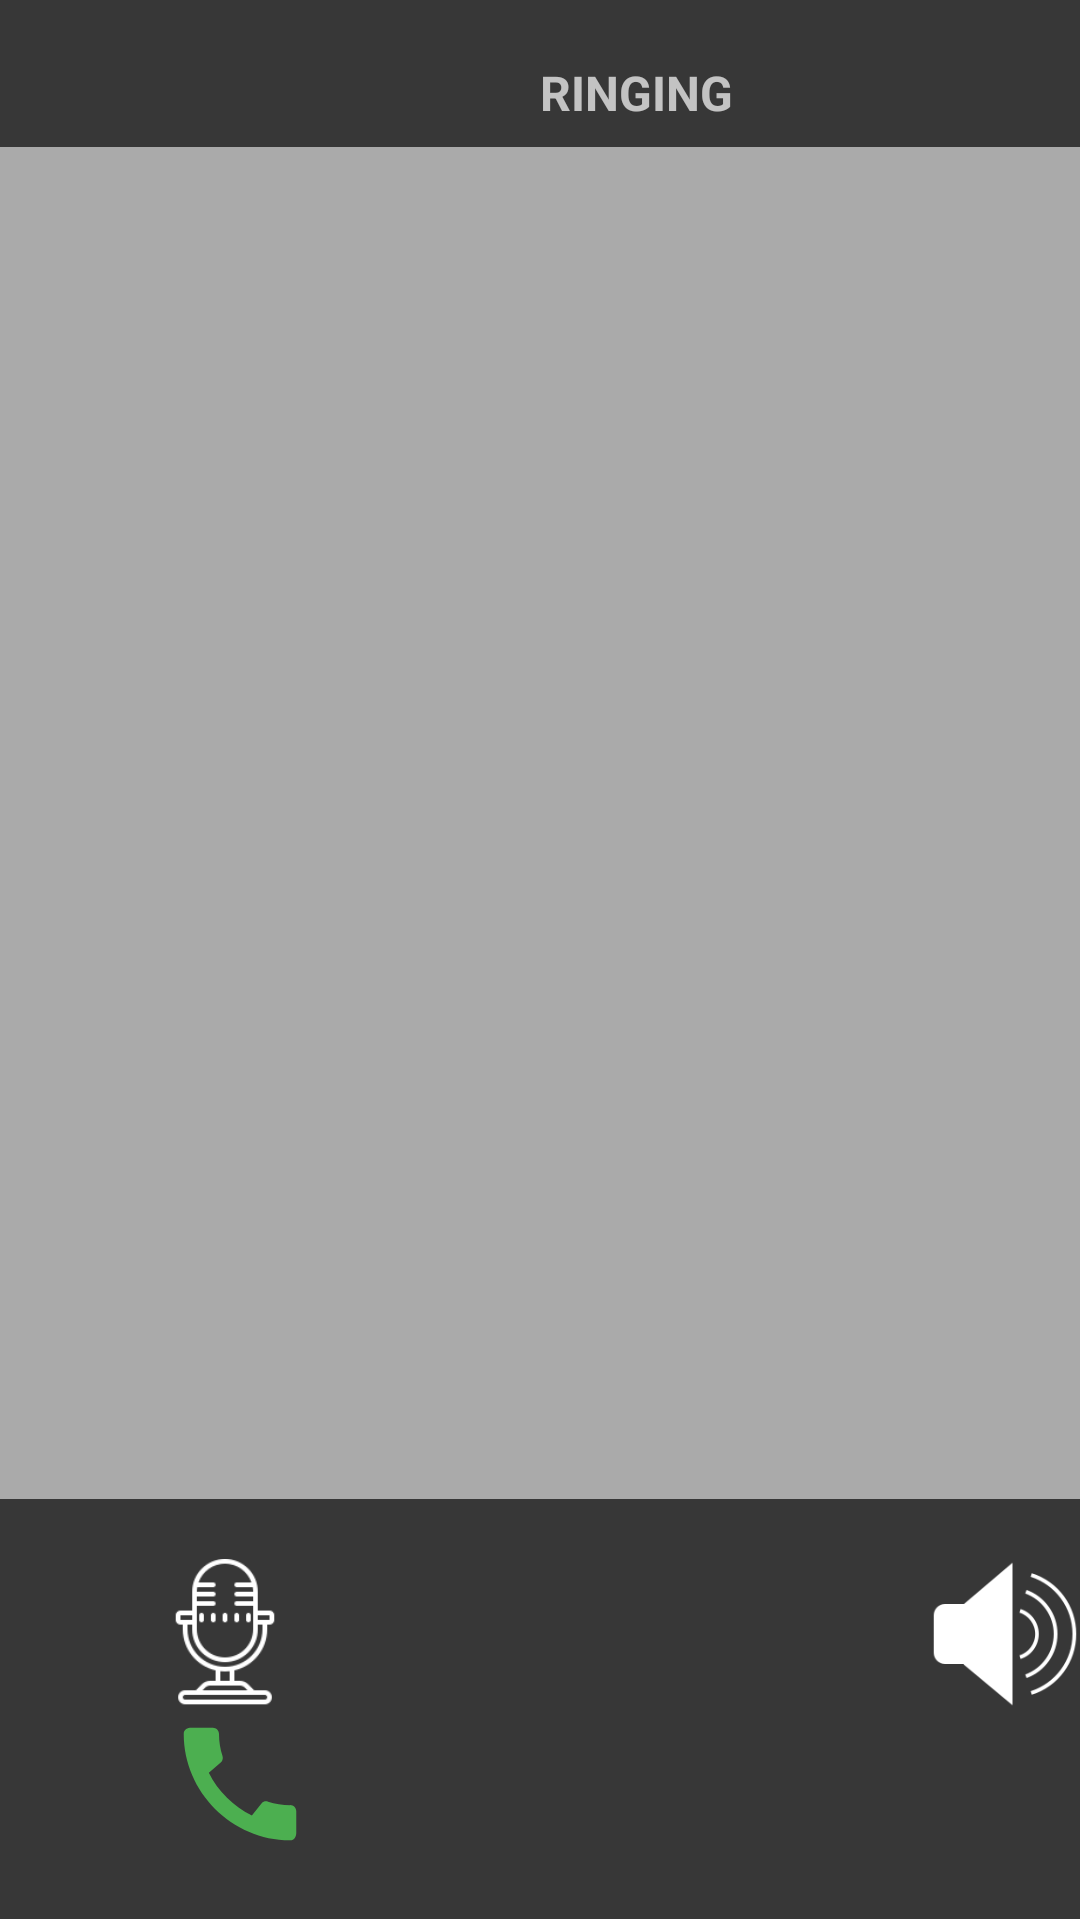

Icons on this 1080×1920 Android screen, each with its box as (x1, y1, x2, y2):
call: (183, 1727, 297, 1841)
microphone: (175, 1559, 275, 1705)
speaker: (933, 1563, 1077, 1705)
